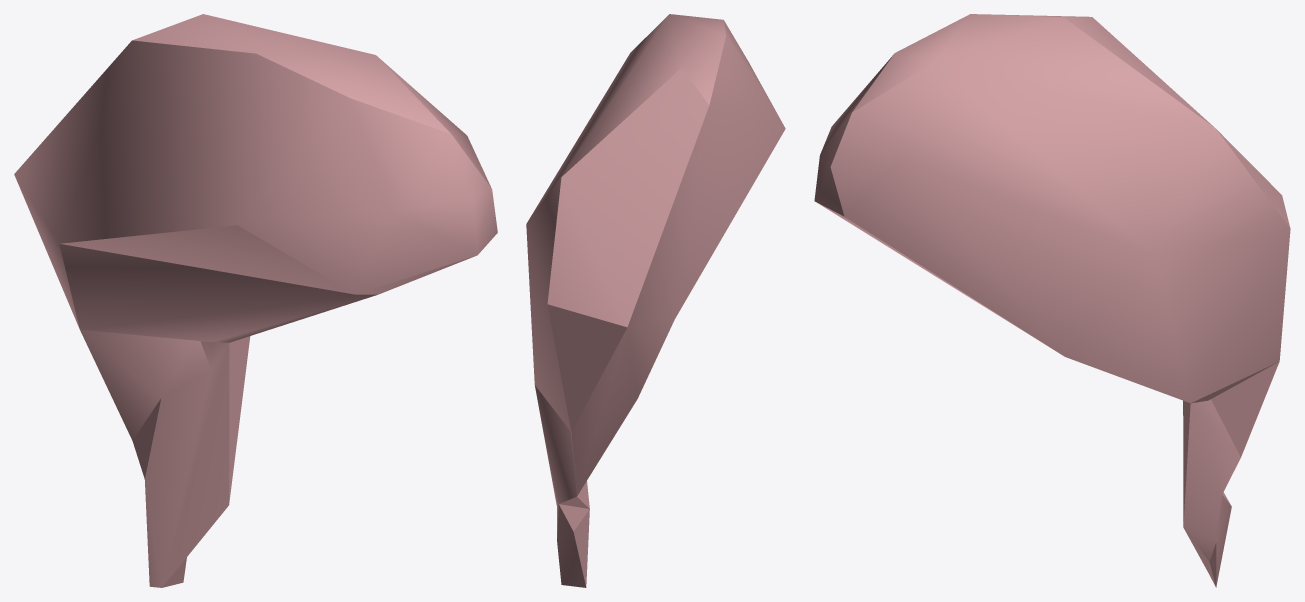
File: fma18256_fj3141.glb
The picture shows the model from 3 angles, left to right: view 1: azimuth 30°, elevation 25°; view 2: azimuth 150°, elevation 25°; view 3: azimuth 270°, elevation 25°; orthographic projection. The views are drawn at different scales.
Visible parts, largest first — view 1: FMA18256_FJ3141; view 2: FMA18256_FJ3141; view 3: FMA18256_FJ3141.
Part boxes in pixels (x1=…): FMA18256_FJ3141: x1=14, y1=14, x2=497, y2=587; FMA18256_FJ3141: x1=526, y1=14, x2=785, y2=587; FMA18256_FJ3141: x1=814, y1=14, x2=1290, y2=587.
Bounding box in the file's own units: 0.00937 × 0.0242 × 0.0192.
